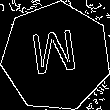M_S: (30, 29, 82, 85)
